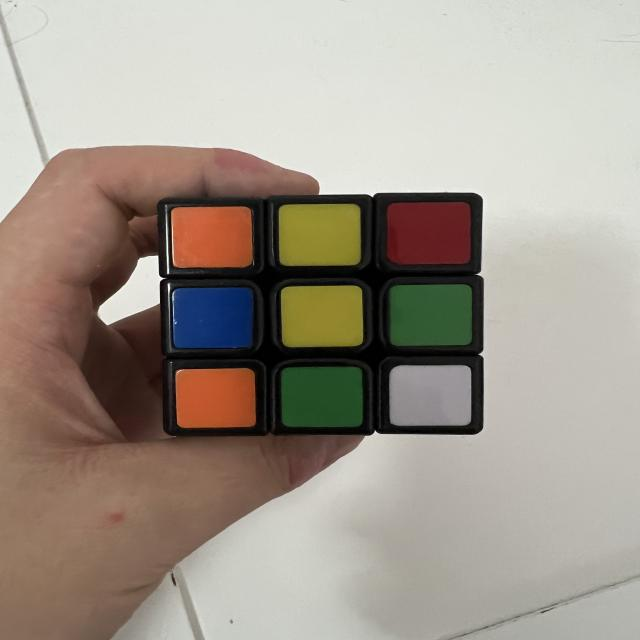blue: (172, 287, 254, 349)
center: (280, 285, 364, 348)
green: (388, 284, 473, 346), (281, 366, 363, 427)
orange: (171, 206, 253, 268), (175, 368, 256, 429)
red: (387, 202, 471, 265)
white: (389, 365, 471, 426)
yellow: (279, 203, 361, 266)
